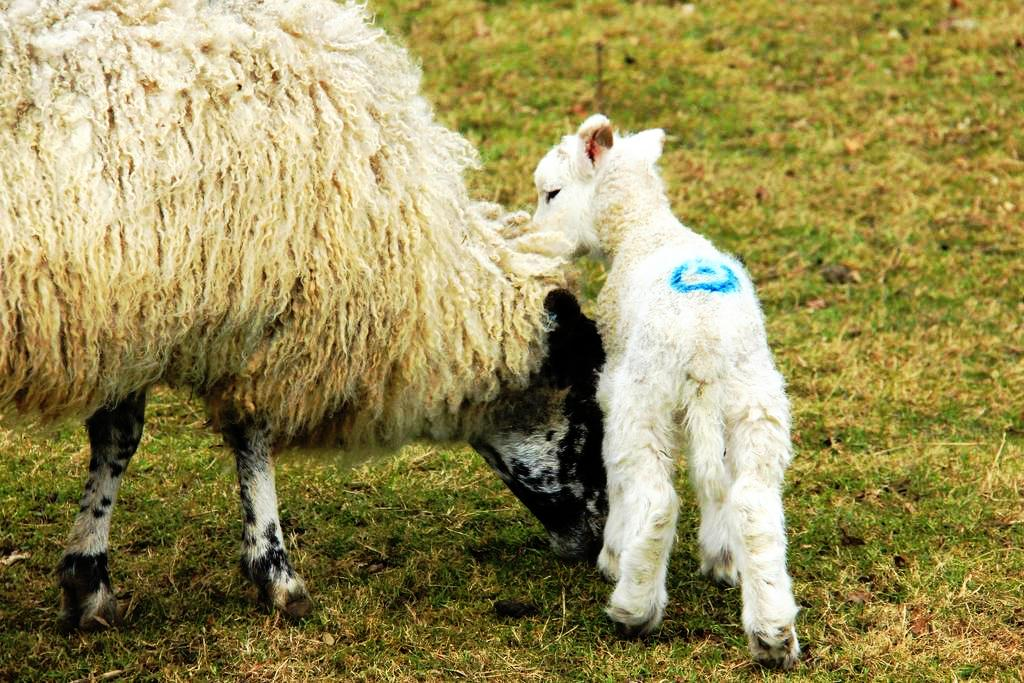Sheep: (0, 0, 607, 559), (529, 115, 802, 671)
